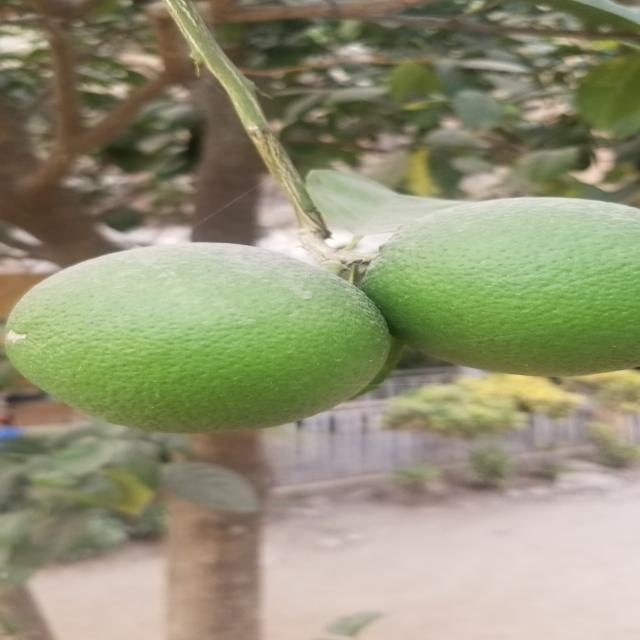agrume: (20, 244, 388, 435), (366, 198, 634, 374)
